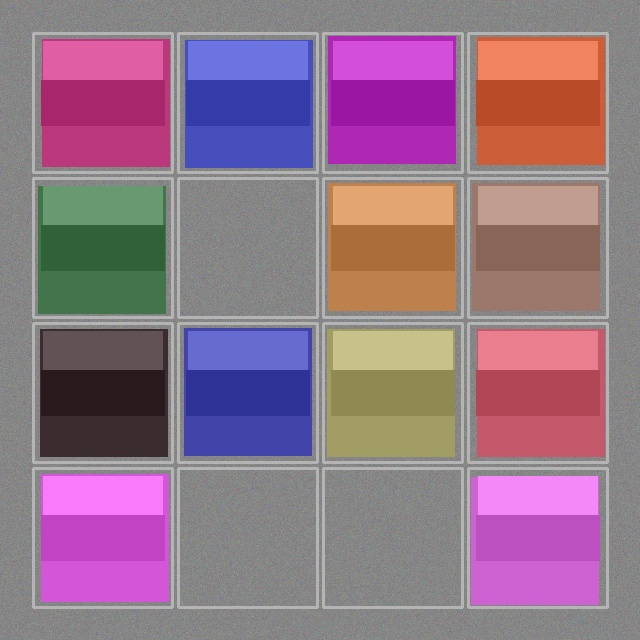space-empty: (180, 180, 315, 315), (180, 470, 315, 605), (325, 470, 460, 605)
space-occupied: (35, 35, 170, 170), (180, 35, 315, 170), (325, 35, 460, 170), (470, 35, 605, 170), (35, 180, 170, 315), (325, 180, 460, 315), (470, 180, 605, 315), (35, 325, 170, 460), (180, 325, 315, 460), (325, 325, 460, 460), (470, 325, 605, 460), (35, 470, 170, 605), (470, 470, 605, 605)
